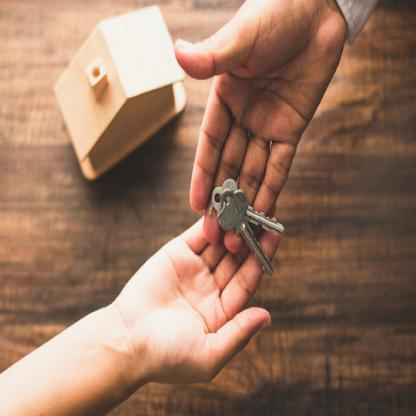keys: (207, 176, 285, 281)
